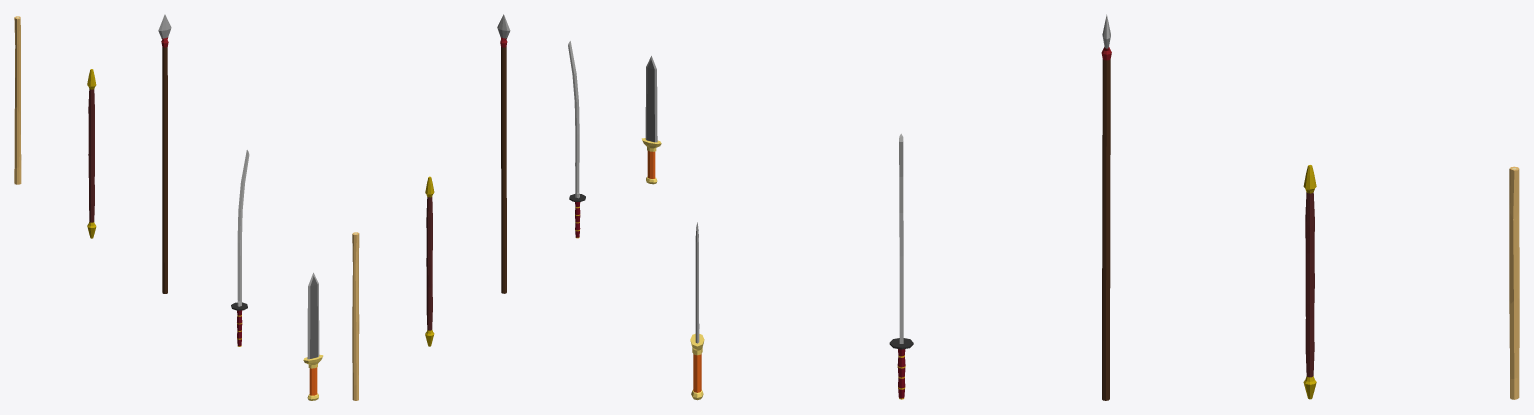
The model's file is lowpolyweaponpack.glb.
3 views of the same model, side by side, from view 1: azimuth 30°, elevation 25°; view 2: azimuth 150°, elevation 25°; view 3: azimuth 270°, elevation 25° (orthographic). The views are drawn at different scales.
Parts seen in each view (by area): view 1: Spears, Gladius, Plane.001, Plane, Katana; view 2: Spears, Gladius, Plane.001, Plane, Katana; view 3: Spears, Plane.001, Plane, Katana, Gladius.
Part boxes in pixels (left/top/right/bottom): Spears: left=158, top=14, right=171, bottom=293; Gladius: left=303, top=272, right=323, bottom=400; Plane.001: left=14, top=16, right=21, bottom=184; Plane: left=87, top=69, right=96, bottom=238; Katana: left=231, top=150, right=249, bottom=346; Spears: left=497, top=14, right=510, bottom=293; Gladius: left=641, top=56, right=661, bottom=184; Plane.001: left=352, top=232, right=359, bottom=400; Plane: left=425, top=176, right=434, bottom=346; Katana: left=568, top=41, right=585, bottom=238; Spears: left=1101, top=14, right=1111, bottom=400; Plane.001: left=1509, top=166, right=1519, bottom=399; Plane: left=1303, top=165, right=1316, bottom=399; Katana: left=889, top=133, right=913, bottom=399; Gladius: left=690, top=222, right=704, bottom=400.
Bounding box in the file's own units: 0.1583 × 2.08 × 4.06.
4 materials, 4 textured.
